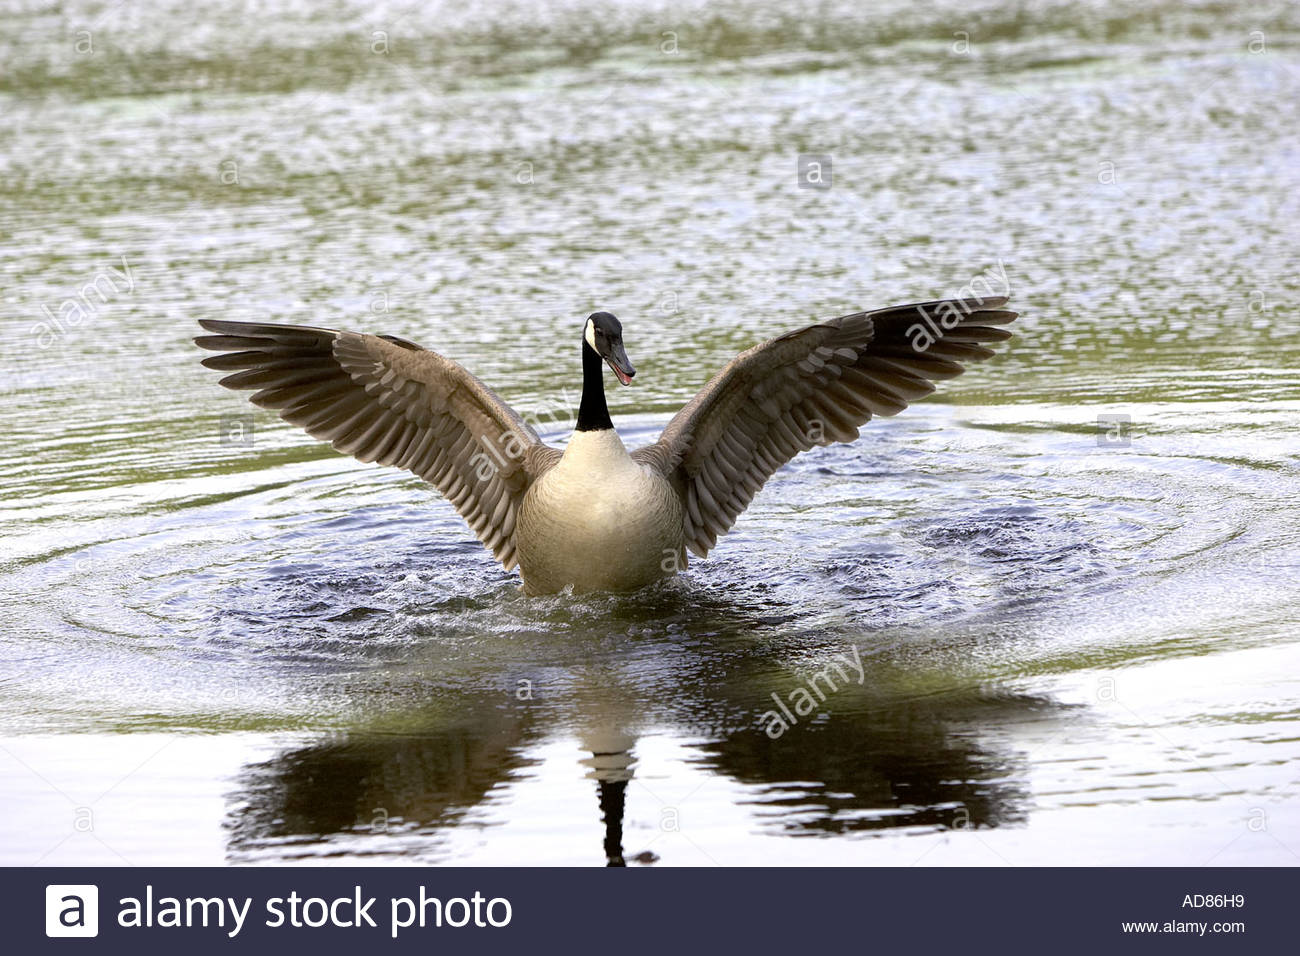goose: (184, 291, 1024, 615)
